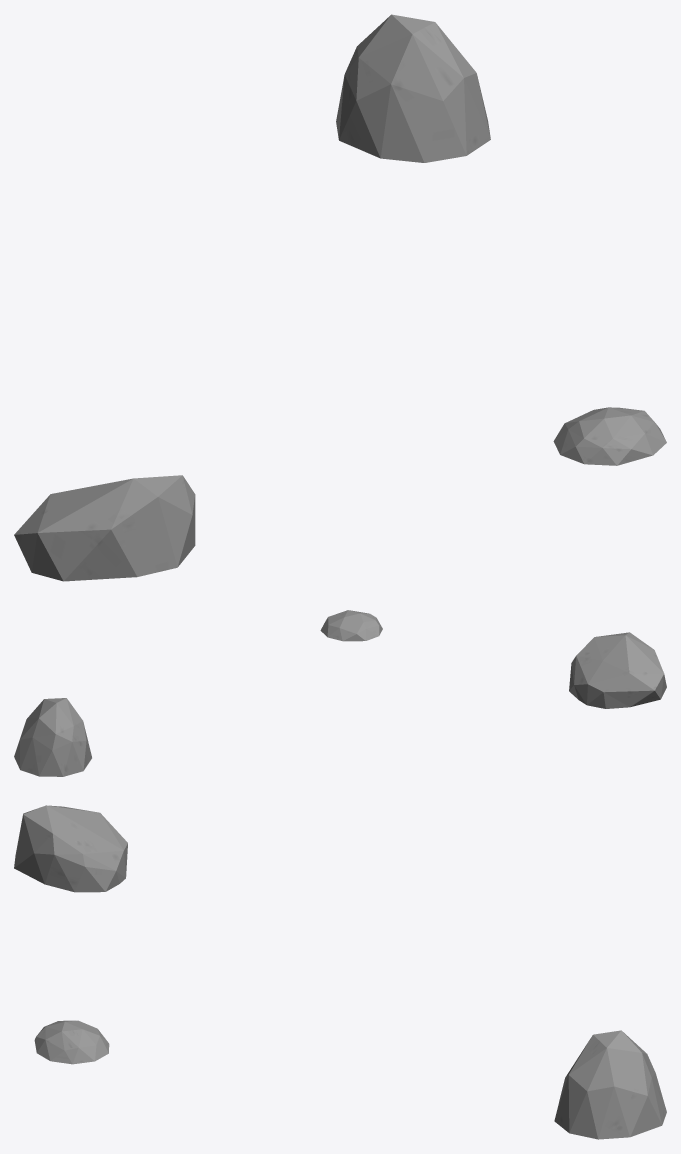
File: Stones3.gltf
3 renders of one model, top to bottom at view 1: azimuth 30°, elevation 25°; view 2: azimuth 150°, elevation 25°; view 3: azimuth 270°, elevation 25°, orthographic. The views are drawn at different scales.
Visible parts, largest first — view 1: Stone2.002 - copy.005, Stone4 - copy.002, Stone3 - copy.004; view 2: Stone4 - copy.002, Stone2.002 - copy.005, Stone3 - copy.004; view 3: Stone2.002 - copy.005, Stone4 - copy.002, Stone3 - copy.004.
Boxes of the visible parts, bbox=[...] form: Stone2.002 - copy.005: bbox=[336, 14, 490, 162]; Stone4 - copy.002: bbox=[14, 475, 195, 581]; Stone3 - copy.004: bbox=[553, 407, 666, 465]; Stone4 - copy.002: bbox=[569, 632, 666, 708]; Stone2.002 - copy.005: bbox=[14, 698, 91, 776]; Stone3 - copy.004: bbox=[320, 610, 382, 641]; Stone2.002 - copy.005: bbox=[554, 1030, 666, 1139]; Stone4 - copy.002: bbox=[14, 805, 127, 892]; Stone3 - copy.004: bbox=[34, 1020, 109, 1064].
Bounding box in the file's own units: 12.25 × 1.62 × 11.73.
3 materials, 3 textured.
